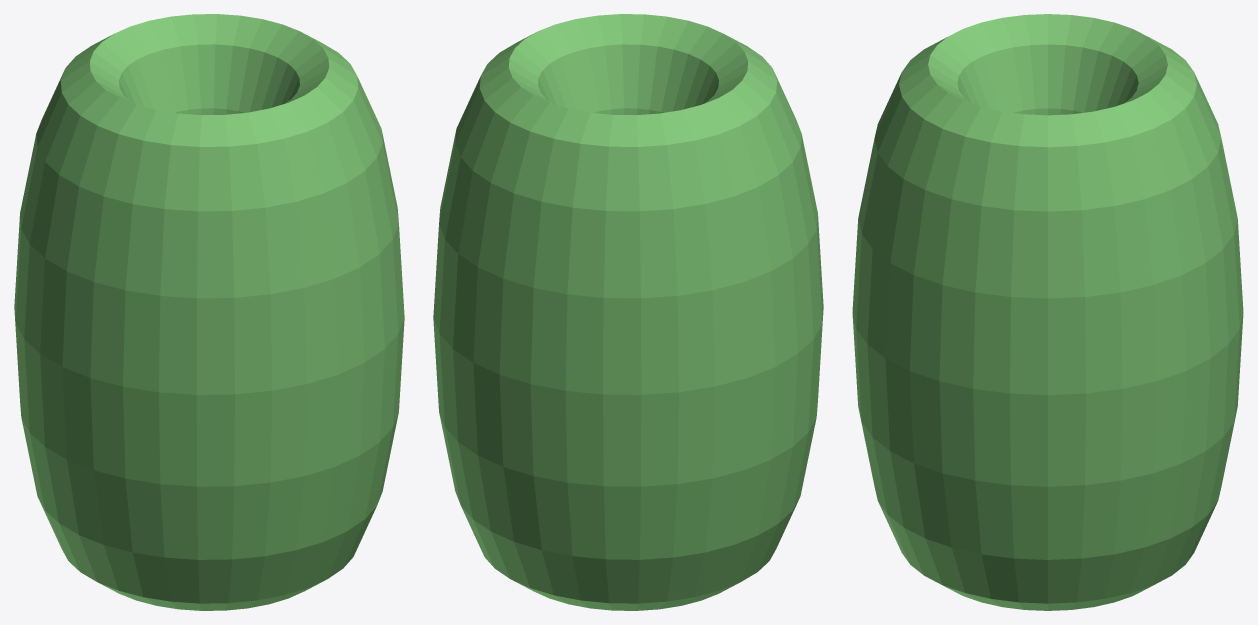
File: AlienSmoke.glb
The picture shows the model from 3 angles, left to right: view 1: azimuth 30°, elevation 25°; view 2: azimuth 150°, elevation 25°; view 3: azimuth 270°, elevation 25°; orthographic projection.
Visible parts, largest first — view 1: Torus; view 2: Torus; view 3: Torus.
Part boxes in pixels (bbox=[...]): Torus: bbox=[14, 14, 404, 610]; Torus: bbox=[433, 14, 823, 610]; Torus: bbox=[852, 14, 1243, 610].
Bounding box in the file's own units: 3.28 × 4.59 × 3.28.
